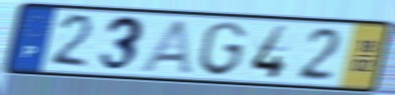2: (45, 11, 98, 73), (294, 26, 344, 83)
3: (96, 14, 150, 75)
4: (247, 22, 287, 80)
A: (137, 18, 196, 77)
G: (196, 20, 249, 79)
